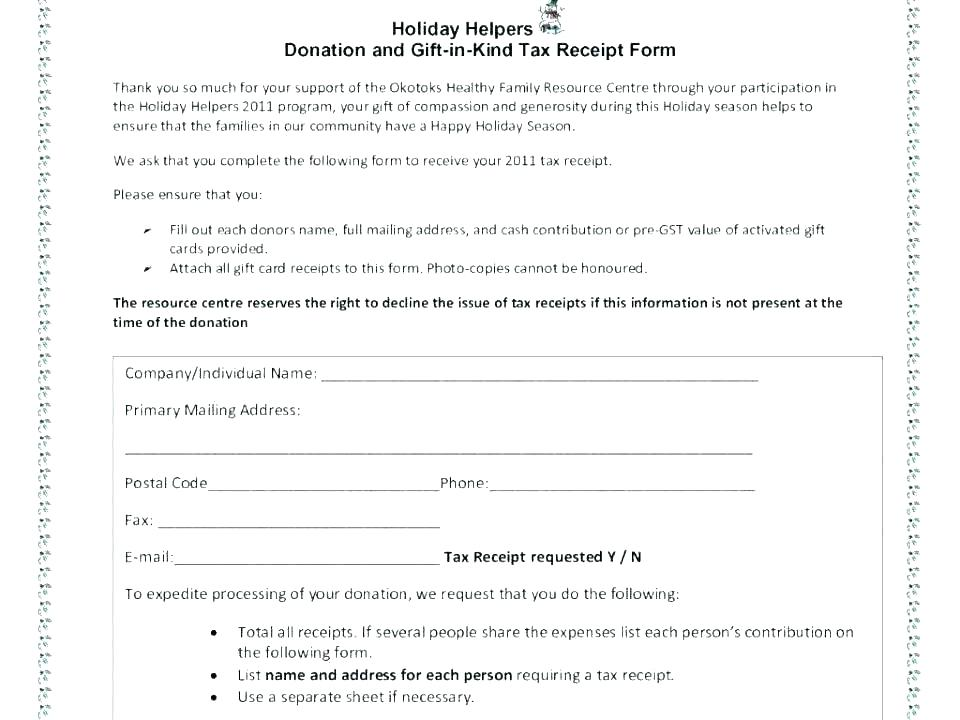textline: (119, 421, 759, 458), (318, 361, 764, 387), (153, 500, 446, 532), (170, 538, 443, 569), (204, 463, 442, 497), (486, 464, 761, 493)
